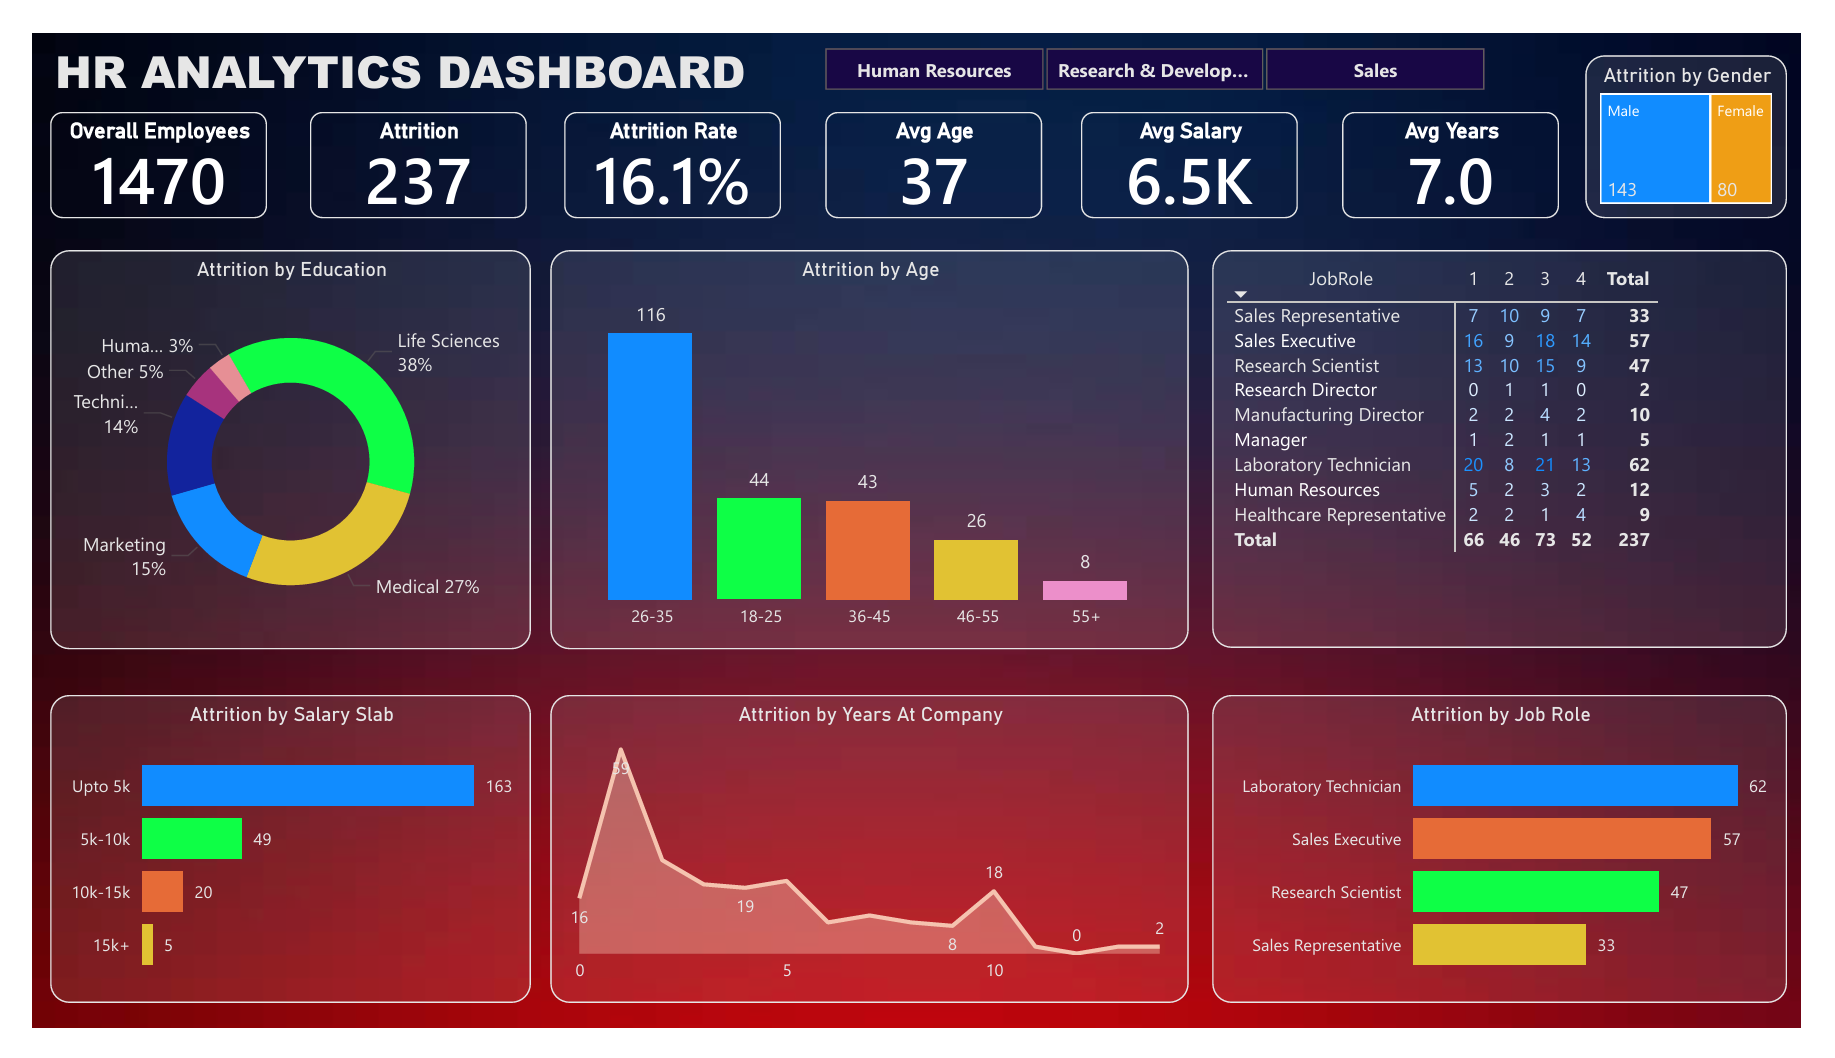

The page's visual inventory and layout, read from the dashboard file:
{"tool":"powerbi","page":{"name":"Page 1","canvas":[1280,720],"ordinal":0},"visuals":[{"type":"cardVisual","title":"Overall Employees","fields":{"Data":["CountNonNull(HR_Analytics.EmpID)"]},"box":[13.3,56.7,157,77],"z":0},{"type":"cardVisual","title":"Attrition","fields":{"Data":["Sum(HR_Analytics.AttritionCount)"]},"box":[201.5,56.7,156.8,77.2],"z":1000},{"type":"cardVisual","title":"Attrition Rate","fields":{"Data":["HR_Analytics.AttritionRate"]},"box":[384.9,56.7,157,77.2],"z":2000},{"type":"cardVisual","title":"Avg Age","fields":{"Data":["Avg(HR_Analytics.Age)"]},"box":[574.3,56.7,156.8,77.2],"z":3000},{"type":"cardVisual","title":"Avg Years","fields":{"Data":["Avg(HR_Analytics.YearsAtCompany)"]},"box":[948.3,56.7,156.8,77.2],"z":4000},{"type":"cardVisual","title":"Avg Salary","fields":{"Data":["Avg(HR_Analytics.MonthlyIncome)"]},"box":[758.9,56.7,156.8,77.2],"z":5000},{"type":"donutChart","title":"Attrition by Education","fields":{"Category":["HR_Analytics.EducationField"],"Y":["Sum(HR_Analytics.AttritionCount)"]},"box":[13.3,156.8,347.5,289.5],"z":6000},{"type":"columnChart","title":"Attrition by Age","fields":{"Category":["HR_Analytics.AgeGroup"],"Y":["Sum(HR_Analytics.AttritionCount)"]},"box":[375.2,156.8,462.1,289.5],"z":7000},{"type":"pivotTable","fields":{"Rows":["HR_Analytics.JobRole"],"Columns":["HR_Analytics.JobSatisfaction"],"Values":["Sum(HR_Analytics.AttritionCount)"]},"box":[854.2,156.8,416.2,288.3],"z":8000},{"type":"barChart","title":"Attrition by Salary Slab","fields":{"Category":["HR_Analytics.SalarySlab"],"Y":["Sum(HR_Analytics.AttritionCount)"]},"box":[13.3,479,347.5,223.2],"z":9000},{"type":"barChart","title":"Attrition by Job Role","fields":{"Y":["Sum(HR_Analytics.AttritionCount)"],"Category":["HR_Analytics.JobRole"]},"box":[854.2,479,416.2,223.2],"z":10000},{"type":"areaChart","title":"Attrition by Years At Company","fields":{"Category":["HR_Analytics.YearsAtCompany"],"Y":["Sum(HR_Analytics.AttritionCount)"]},"box":[375.2,479,462.1,223.2],"z":11000},{"type":"treemap","title":"Attrition by Gender","fields":{"Group":["HR_Analytics.Gender"],"Values":["Sum(HR_Analytics.AttritionCount)"]},"box":[1124.4,15.7,146,118.2],"z":12000},{"type":"slicer","fields":{"Values":["HR_Analytics.Department"]},"box":[550.1,6,522.4,39.8],"z":13000},{"type":"textbox","box":[0,0,533.2,56.7],"z":14000}]}

Visuals, with their boxes in screenshot pixels (x1, y1, x2, y2), scaled from the page's 1280x720 canvas onto the 1835x1058 screenshot:
"Overall Employees" cardVisual: (left=19, top=83, right=244, bottom=196)
"Attrition" cardVisual: (left=289, top=83, right=514, bottom=197)
"Attrition Rate" cardVisual: (left=552, top=83, right=777, bottom=197)
"Avg Age" cardVisual: (left=823, top=83, right=1048, bottom=197)
"Avg Years" cardVisual: (left=1359, top=83, right=1584, bottom=197)
"Avg Salary" cardVisual: (left=1088, top=83, right=1313, bottom=197)
"Attrition by Education" donutChart: (left=19, top=230, right=517, bottom=656)
"Attrition by Age" columnChart: (left=538, top=230, right=1200, bottom=656)
pivotTable - HR_Analytics.JobRole x HR_Analytics.JobSatisfaction: (left=1225, top=230, right=1821, bottom=654)
"Attrition by Salary Slab" barChart: (left=19, top=704, right=517, bottom=1032)
"Attrition by Job Role" barChart: (left=1225, top=704, right=1821, bottom=1032)
"Attrition by Years At Company" areaChart: (left=538, top=704, right=1200, bottom=1032)
"Attrition by Gender" treemap: (left=1612, top=23, right=1821, bottom=197)
slicer - HR_Analytics.Department: (left=789, top=9, right=1538, bottom=67)
textbox: (left=0, top=0, right=764, bottom=83)
